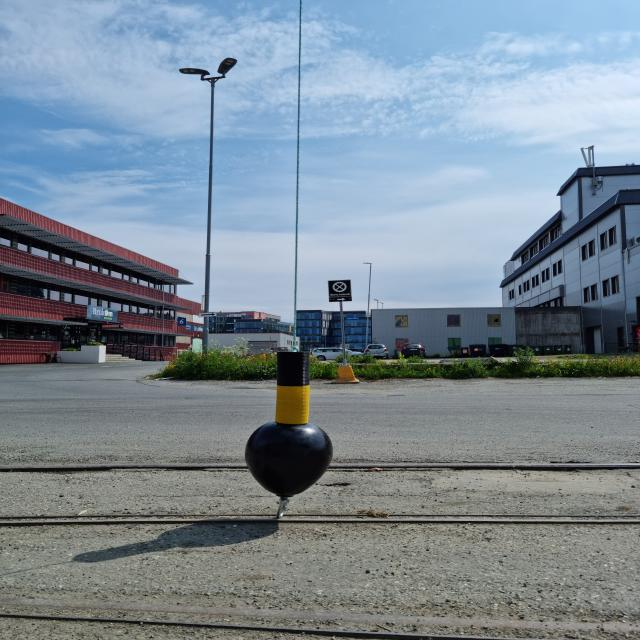east: (245, 350, 333, 498)
